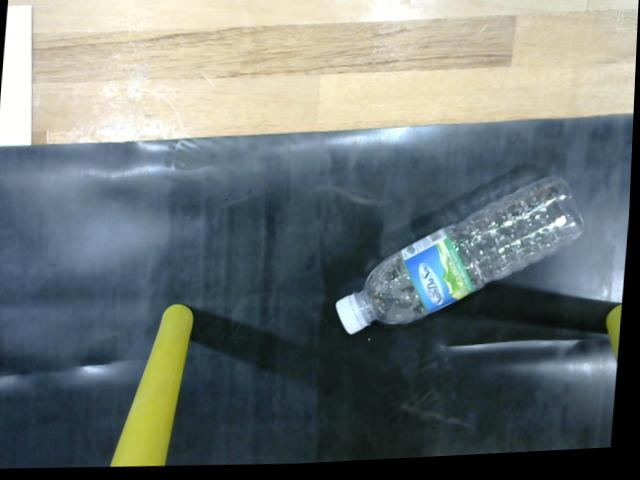bottle: (330, 162, 592, 349)
